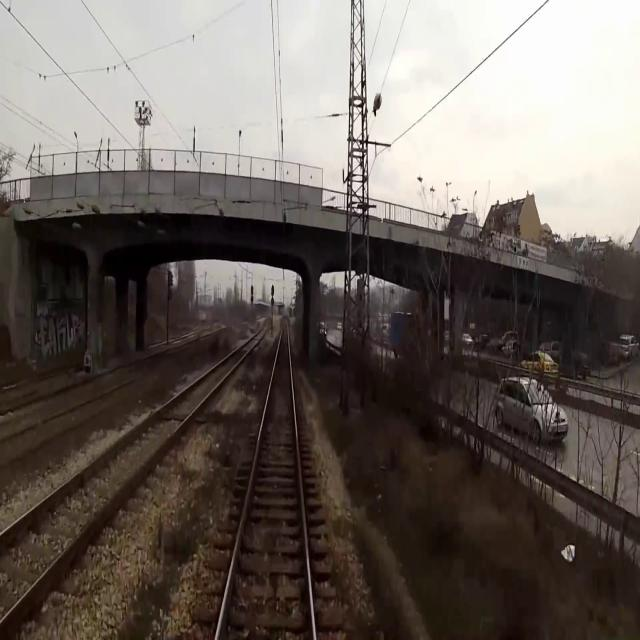rail-track: (0, 329, 264, 616), (219, 321, 312, 639), (0, 376, 46, 391)
